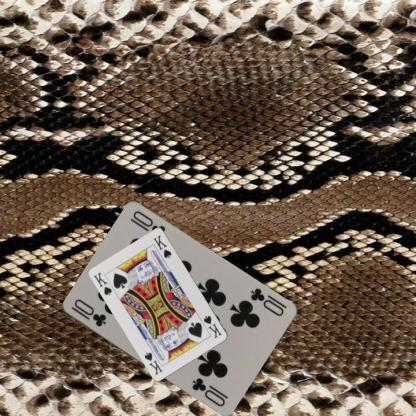10c: (247, 285, 285, 318), (68, 297, 108, 328)
Ks: (91, 270, 114, 296), (201, 313, 223, 340)
